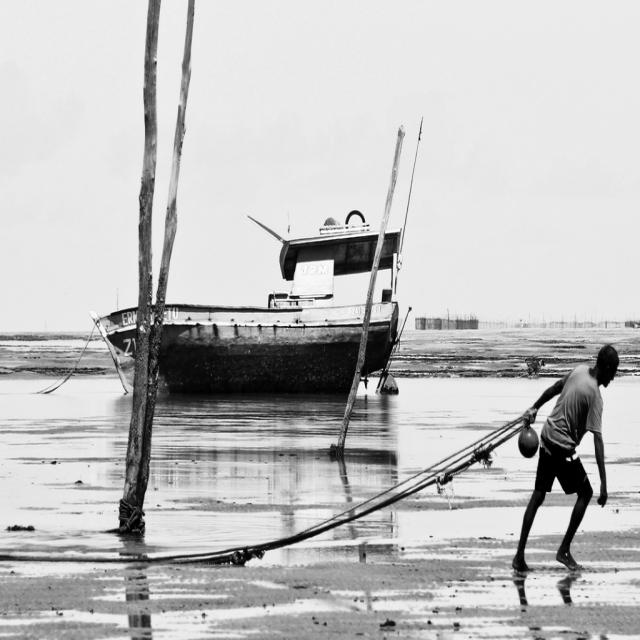Ball: (518, 428, 538, 458)
